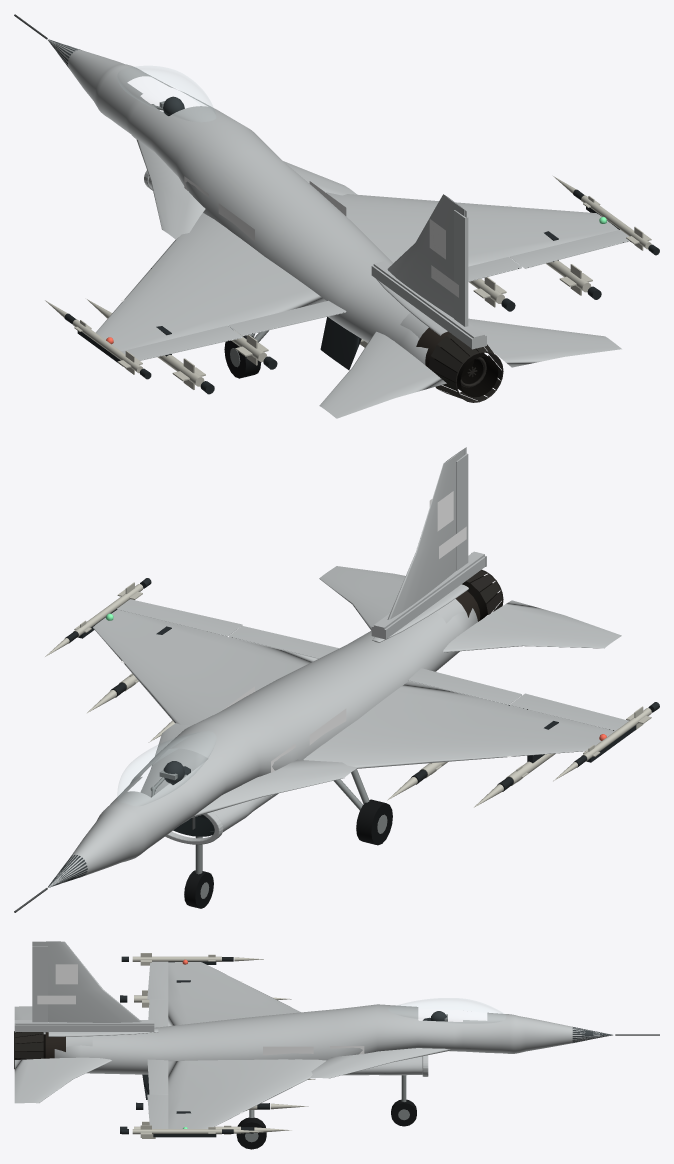
Rendered from f16-deepseek.glb.
3 views of the same model, one above another, from view 1: azimuth 30°, elevation 25°; view 2: azimuth 150°, elevation 25°; view 3: azimuth 270°, elevation 25° (orthographic). The views are drawn at different scales.
Visible parts, largest first — view 1: part (×22); view 2: part (×20); view 3: part (×26).
Part boxes in pixels (bbox=[...]): part (×22): bbox=[48, 39, 651, 418]; part (×20): bbox=[48, 447, 628, 908]; part (×26): bbox=[14, 941, 612, 1149].
Size of the model in its own units: 10.38 by 4.97 by 15.9.
